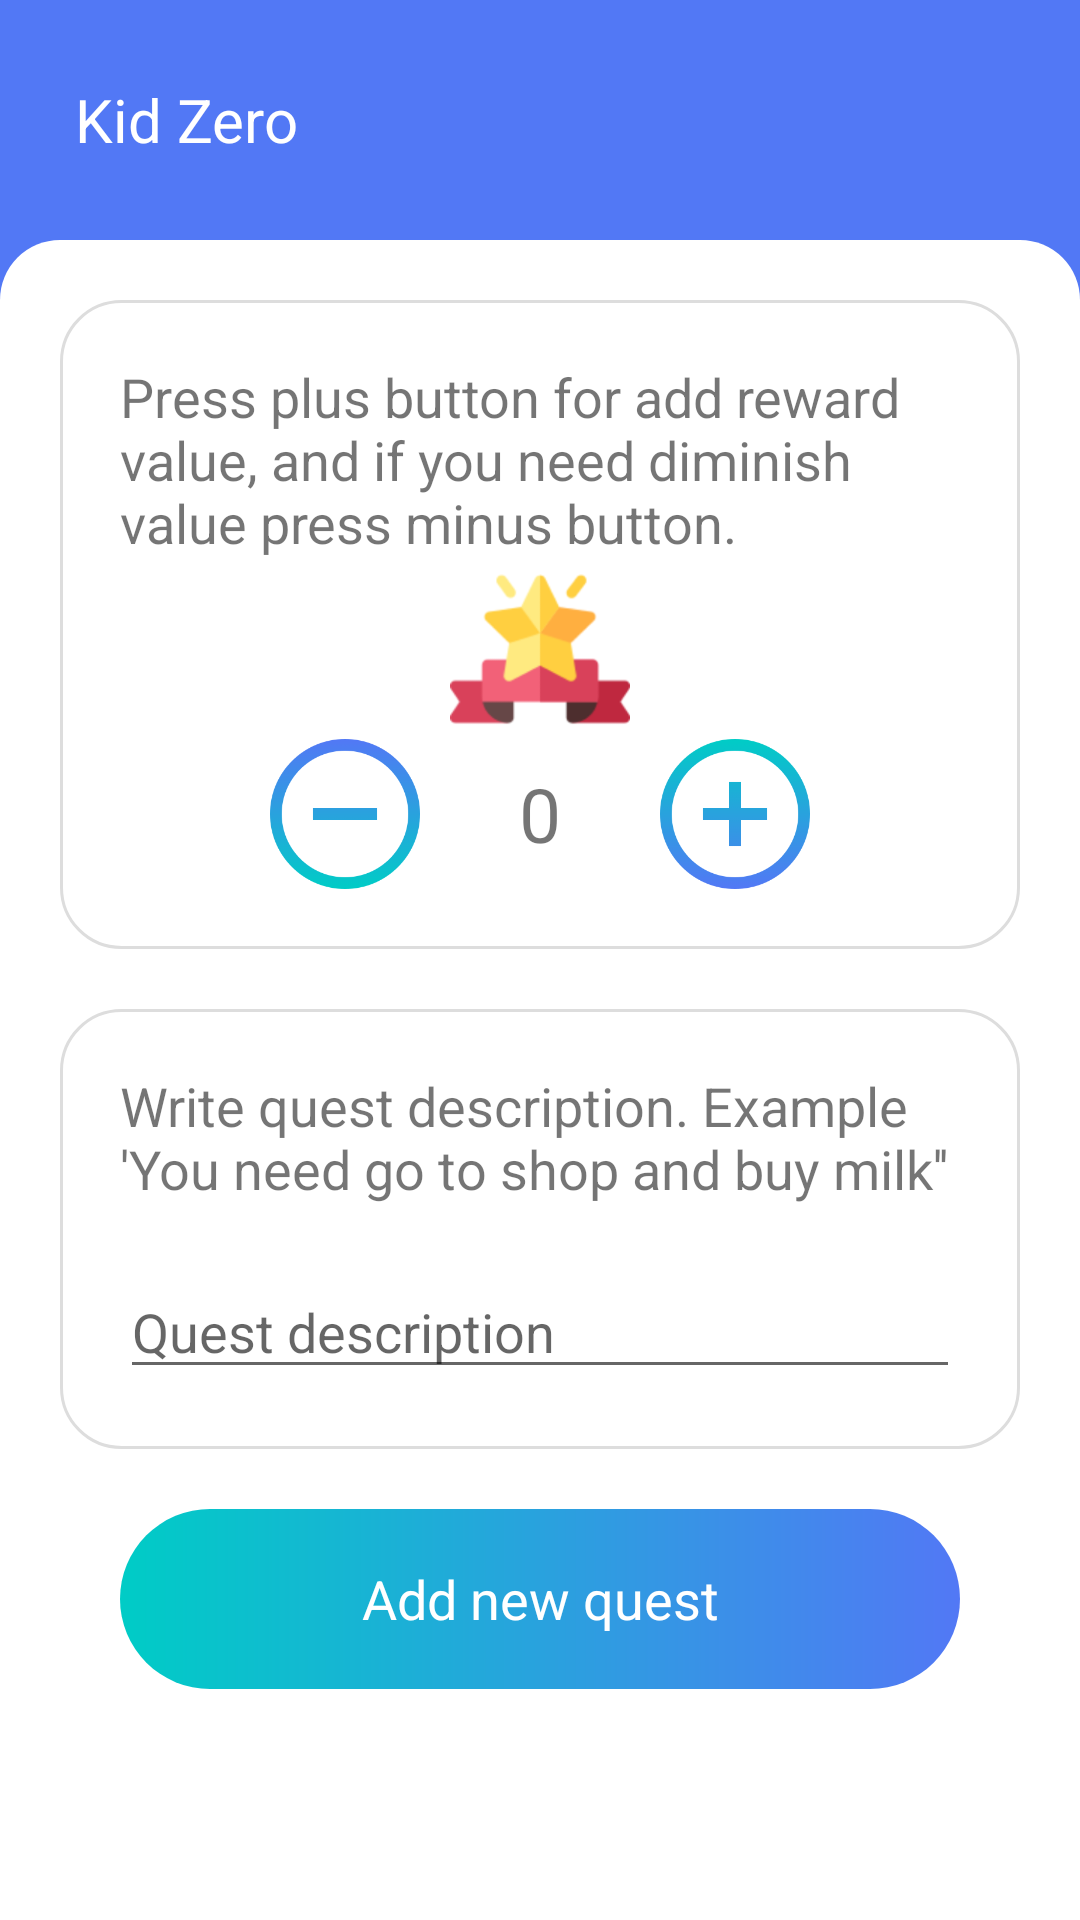

Where icons sit on this 1080px x 1920px app screen, as [x1,y1,x2,y2]:
minus: [270,739,420,889]
plus: [660,739,810,889]
star: [450,574,630,724]
